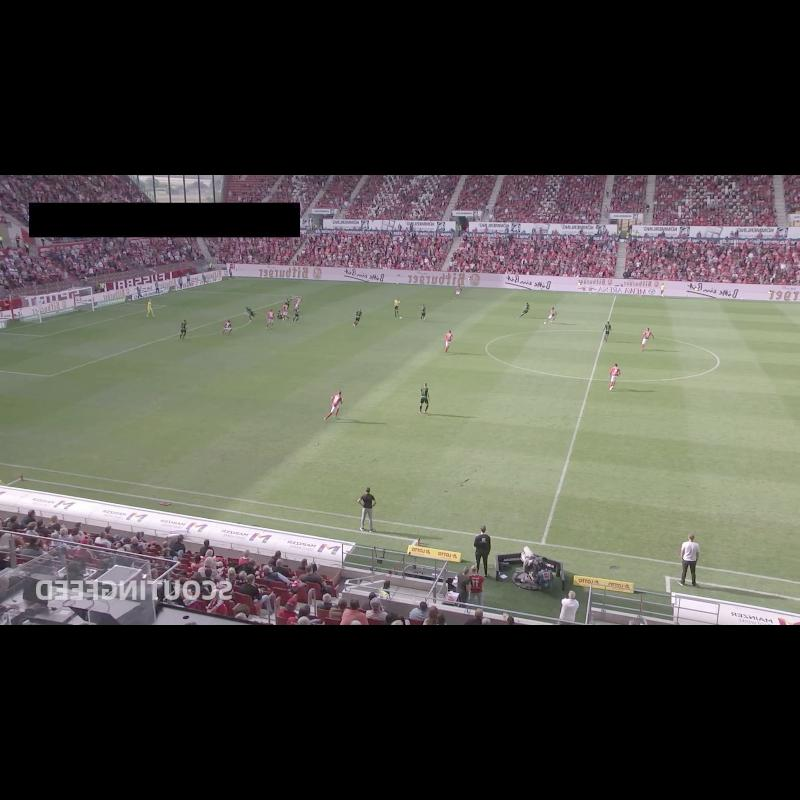cross_recipient_zone: (0, 290, 300, 375)
crossing_player_zone: (0, 370, 159, 464), (184, 278, 405, 300)
pitch: (0, 278, 800, 583)
